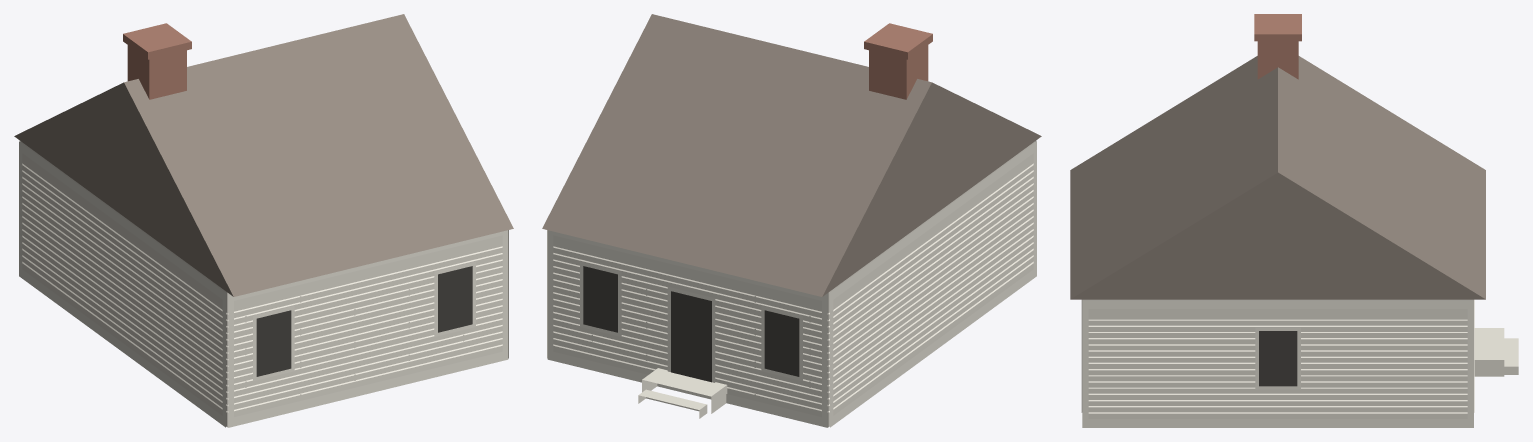
Rendered from recon_1835_south_d4_009__inferred_1835.glb.
3 views of the same model, side by side, from view 1: azimuth 30°, elevation 25°; view 2: azimuth 150°, elevation 25°; view 3: azimuth 270°, elevation 25° (orthographic). The views are drawn at different scales.
Parts seen in each view (by area): view 1: recon_1835_south_d4_009__inferred_1835; view 2: recon_1835_south_d4_009__inferred_1835; view 3: recon_1835_south_d4_009__inferred_1835.
Boxes of the visible parts, x1,y1,x2,y2 form: recon_1835_south_d4_009__inferred_1835: [14, 14, 513, 427]; recon_1835_south_d4_009__inferred_1835: [542, 14, 1041, 427]; recon_1835_south_d4_009__inferred_1835: [1070, 14, 1518, 427].
Size of the model in its own units: 6.36 by 6.55 by 9.2.
